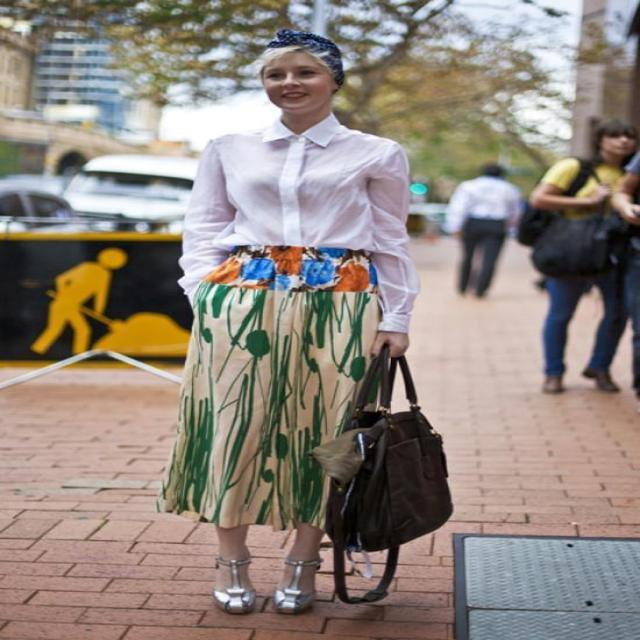shirt: (177, 111, 421, 332)
skirt: (157, 245, 382, 531)
